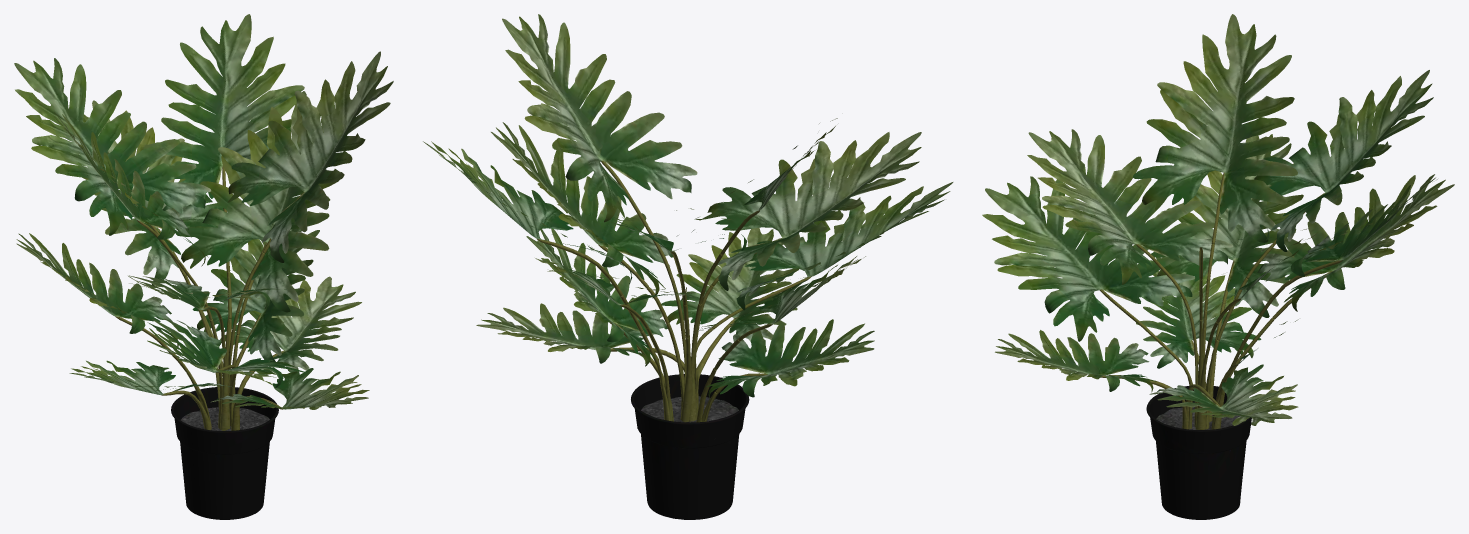
The model's file is LB-PLANT-03.glb.
3 renders of one model, left to right at view 1: azimuth 30°, elevation 25°; view 2: azimuth 150°, elevation 25°; view 3: azimuth 270°, elevation 25°, orthographic. The views are drawn at different scales.
Parts seen in each view (by area): view 1: 011, 000, 008, 001; view 2: 011, 000, 008, 001; view 3: 011, 000, 008, 001.
Boxes of the visible parts, box(x1,y1,x2,y2) form: 011: box(14, 14, 393, 409); 000: box(171, 387, 278, 519); 008: box(115, 166, 304, 430); 001: box(180, 407, 269, 430); 011: box(423, 14, 953, 399); 000: box(631, 374, 749, 519); 008: box(537, 160, 811, 422); 001: box(641, 396, 738, 422); 011: box(982, 14, 1454, 425); 000: box(1146, 386, 1251, 519); 008: box(1099, 172, 1342, 429); 001: box(1156, 407, 1240, 429).
Size of the model in its own units: 0.7049 by 0.7958 by 0.8245.
Materials: 1 (1 with a texture image).
